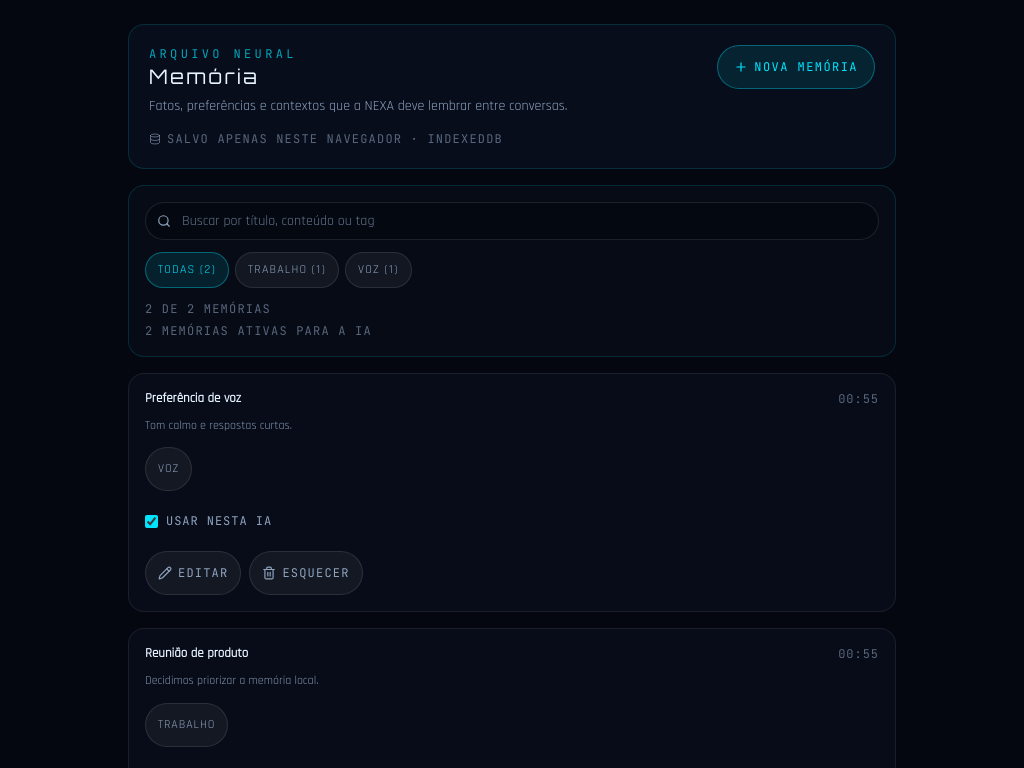
Test: MemoryView › busca sem acento e filtra por tag
Expected: the heading "Reunião de produto" is shown, [145,645,248,663]
Type "reuniao" into the search field named "Buscar memórias" at [512, 221], box [145,202,879,240]
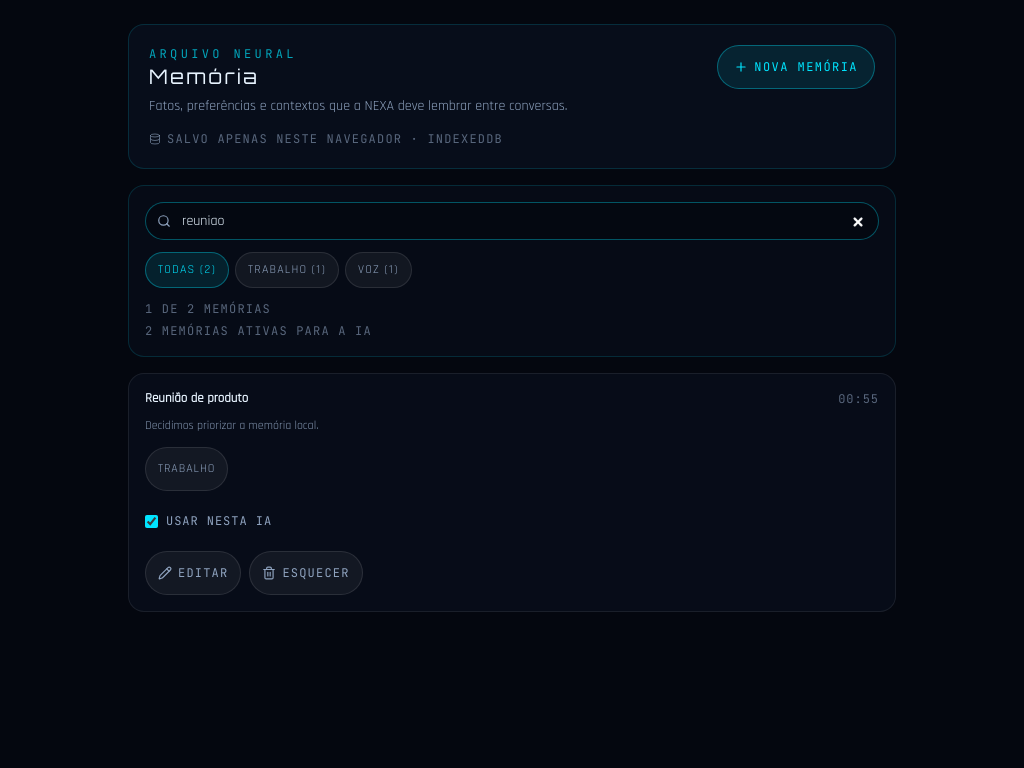
Expected: the heading "Reunião de produto" is shown, [145,390,248,408]
Expected: the heading "Preferência de voz" is gone
Replace the text in the search field named "Buscar memórias" with "inexistente" at [512, 221], box [145,202,879,240]
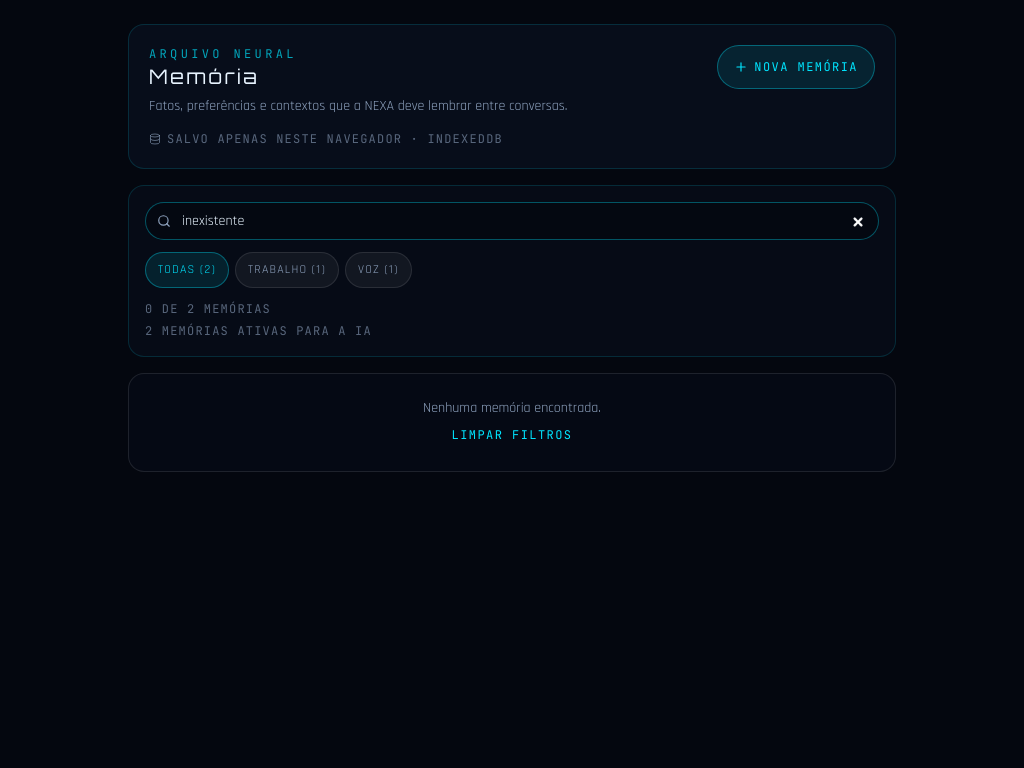
Expected: the text "Nenhuma memória encontrada." is shown, [423,399,601,417]
Click the button "Limpar filtros" at [512, 435], box [452,426,572,444]
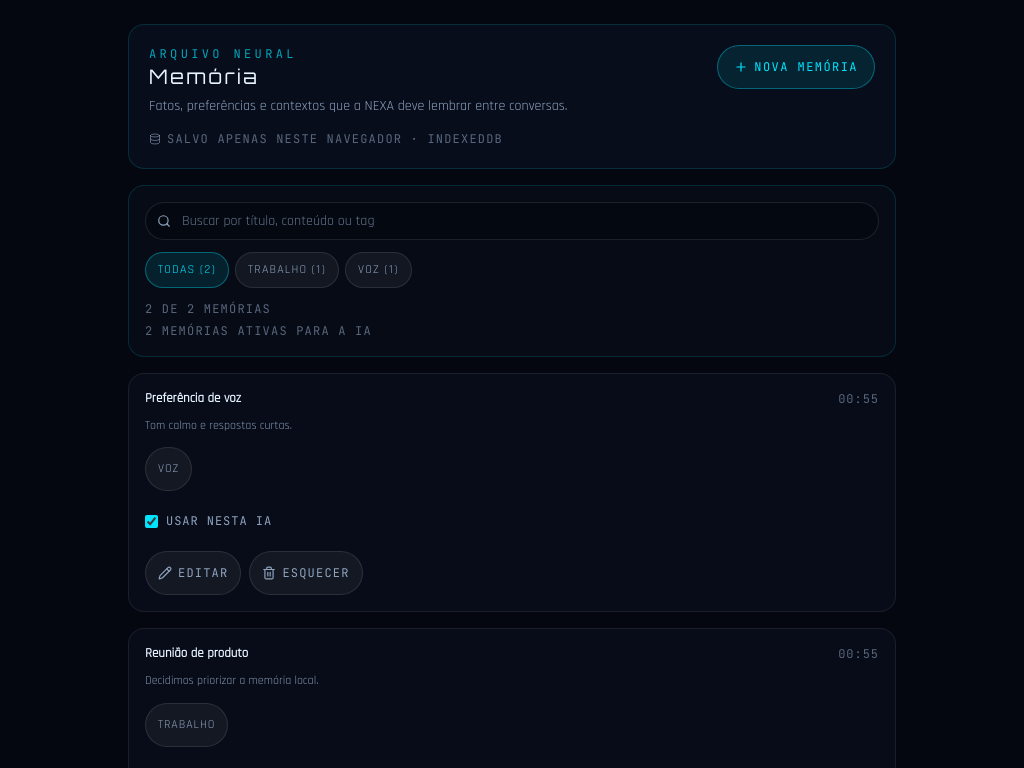
Click the button "voz (1)" at [378, 270], box [345,252,412,288]
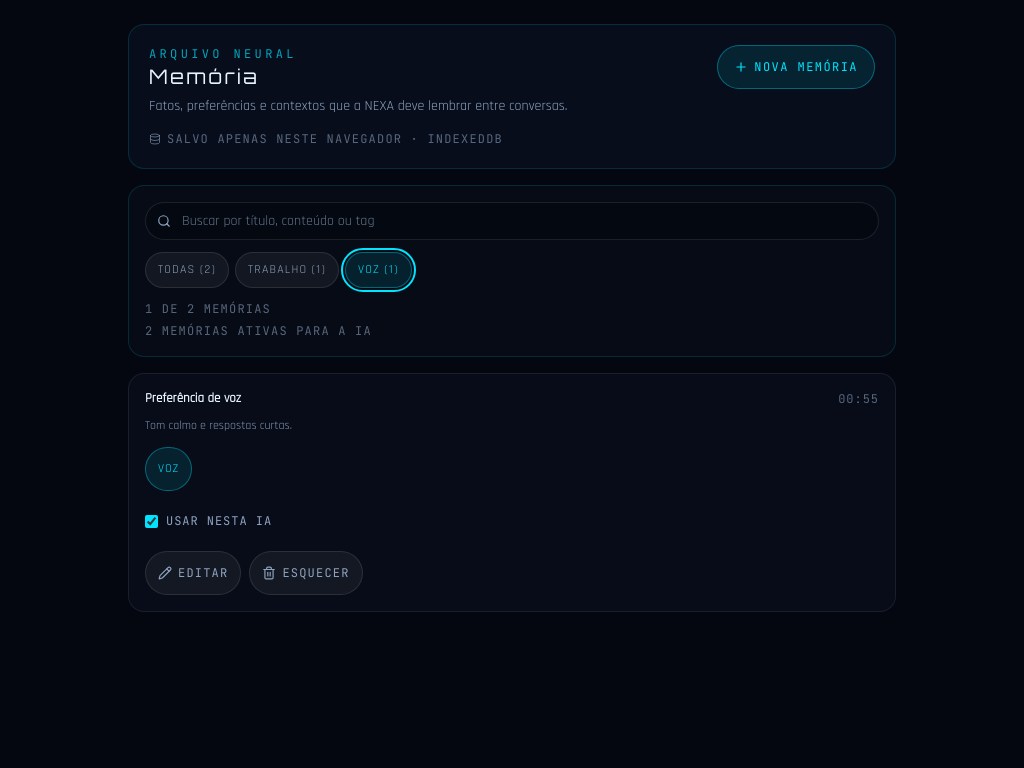
Expected: the heading "Preferência de voz" is shown, [145,390,241,408]
Expected: the heading "Reunião de produto" is gone
